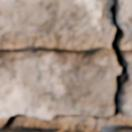brick: (0, 0, 102, 33), (119, 0, 131, 30), (3, 130, 22, 131), (55, 130, 74, 131), (116, 130, 131, 131)
broken_brick: (0, 47, 119, 118), (122, 49, 131, 119)
crack: (0, 0, 130, 131), (126, 12, 131, 23), (121, 0, 124, 6)
